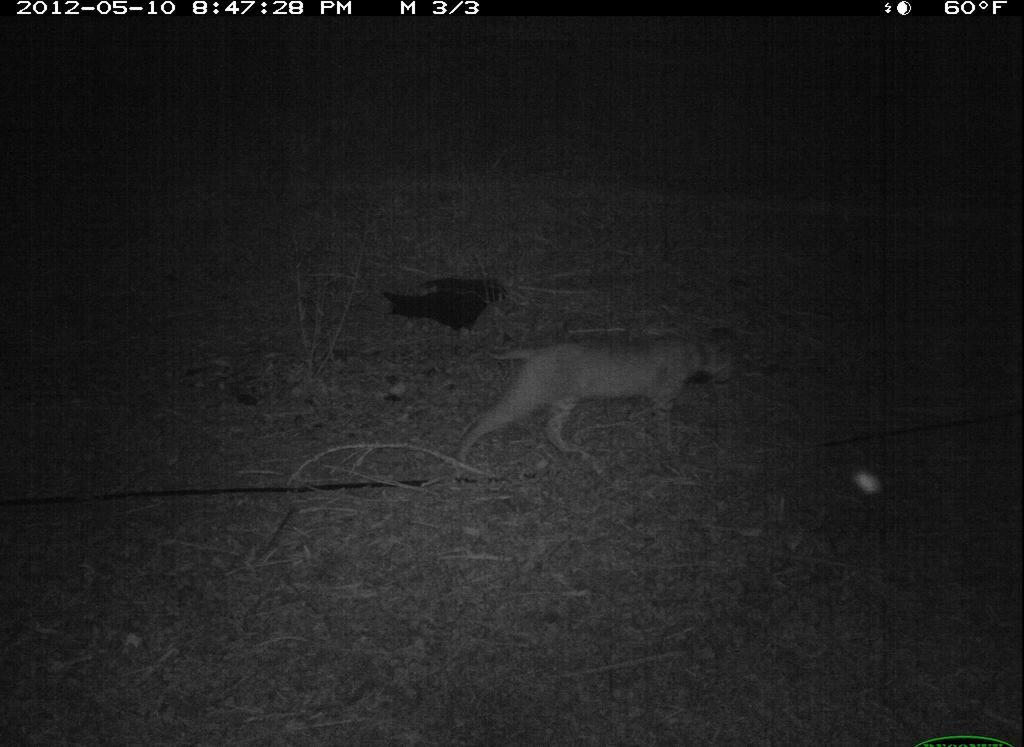bobcat: (452, 317, 742, 492)
